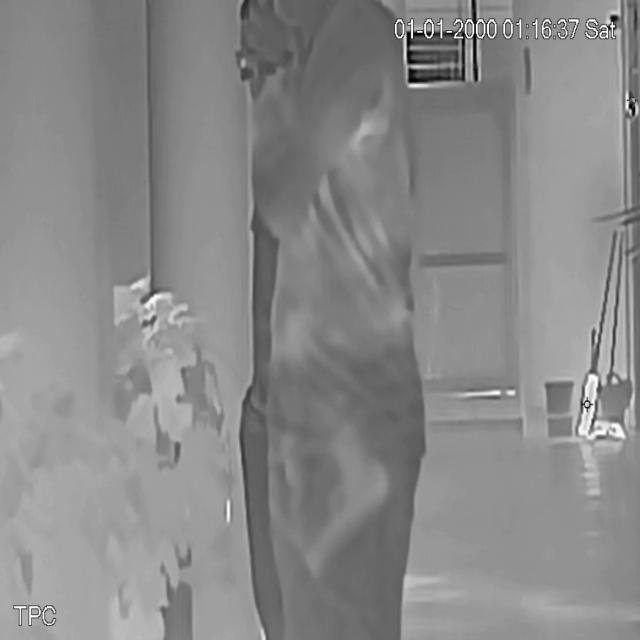Weapon: (296, 411, 401, 590)
